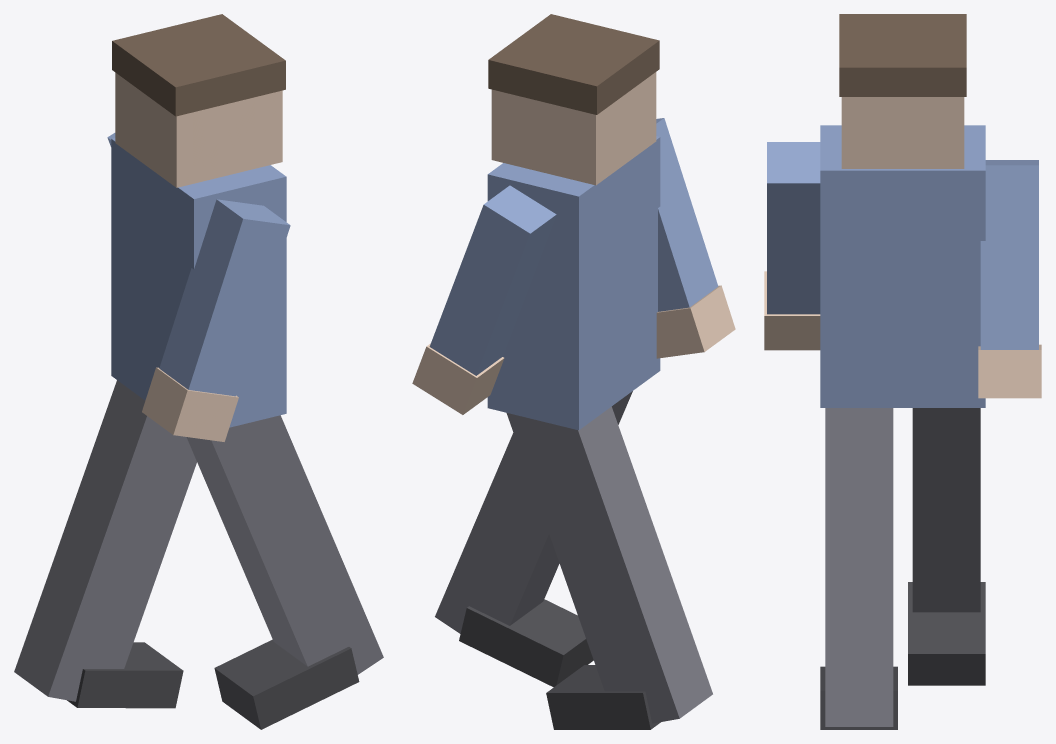
Rendered from SM_WbPed2C_2.glb.
3 renders of one model, left to right at view 1: azimuth 30°, elevation 25°; view 2: azimuth 150°, elevation 25°; view 3: azimuth 270°, elevation 25°, orthographic.
Visible parts, largest first — view 1: SM_WbPed2C_2; view 2: SM_WbPed2C_2; view 3: SM_WbPed2C_2.
Boxes of the visible parts, x1,y1,x2,y2 form: SM_WbPed2C_2: [14, 14, 383, 729]; SM_WbPed2C_2: [412, 14, 735, 729]; SM_WbPed2C_2: [764, 14, 1041, 729].
Size of the model in its own units: 0.57 by 1.22 by 0.4674.
